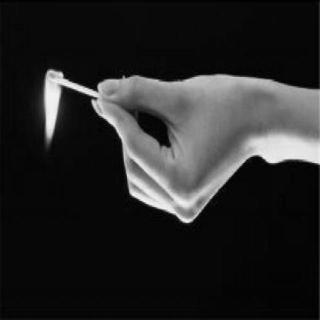Fire: (40, 60, 67, 158)
